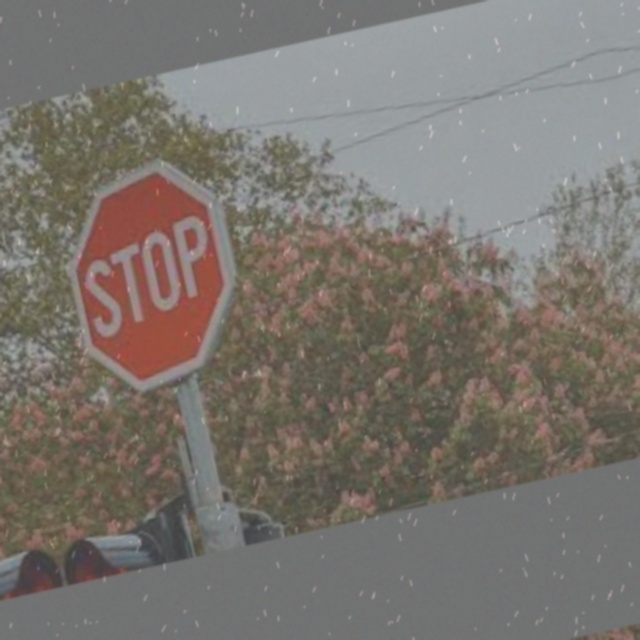Stop: (54, 154, 254, 396)
